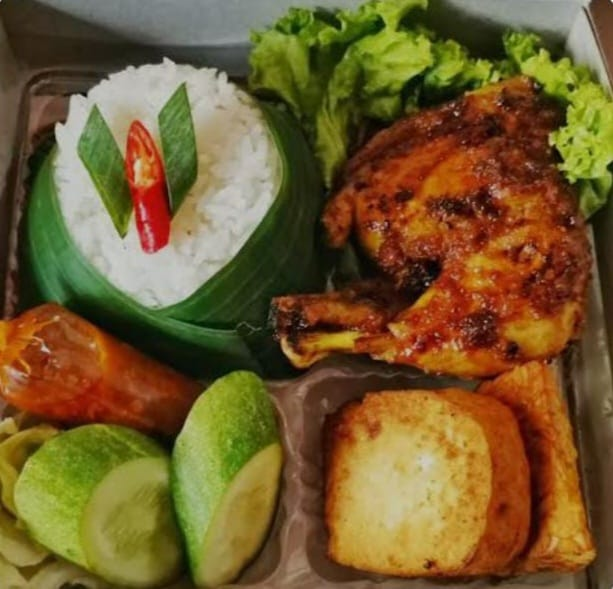buah_sayur_lainnya: (10, 433, 256, 571)
buah_sayur_vitA: (39, 330, 131, 413)
daging: (389, 136, 542, 329)
kacang_legume: (340, 403, 496, 570)
makanan_berpati: (70, 99, 242, 253)
